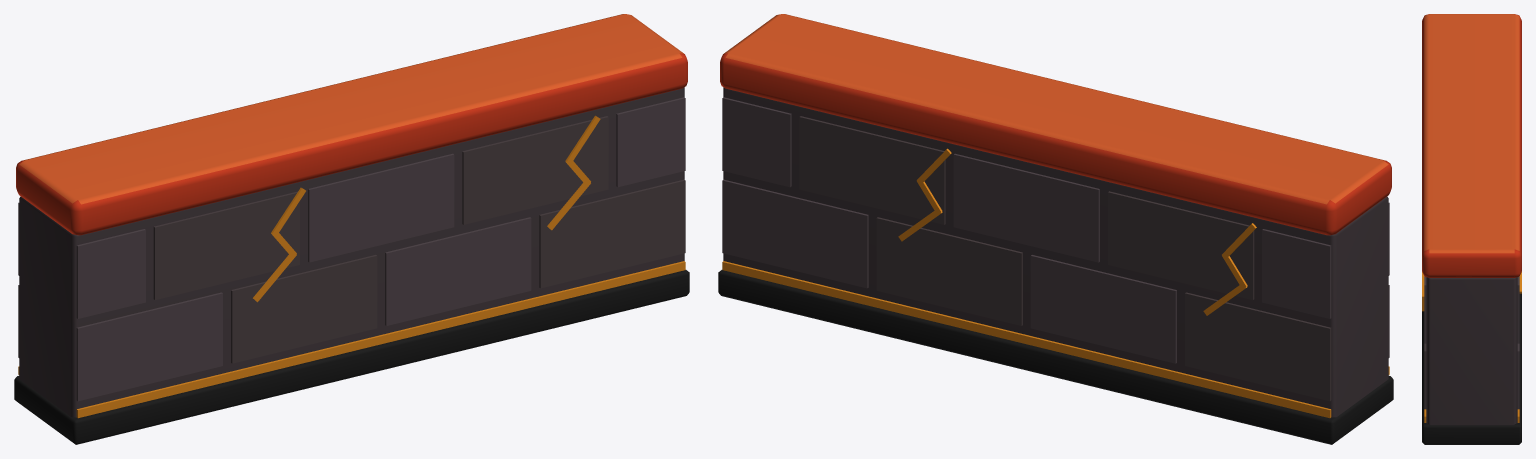
The model's file is candy-border.glb.
The picture shows the model from 3 angles, left to right: view 1: azimuth 30°, elevation 25°; view 2: azimuth 150°, elevation 25°; view 3: azimuth 270°, elevation 25°; orthographic projection. The views are drawn at different scales.
Parts seen in each view (by area): view 1: candy-border; view 2: candy-border; view 3: candy-border.
Part boxes in pixels (<box>): candy-border: <box>14,14,689,444</box>; candy-border: <box>718,14,1393,444</box>; candy-border: <box>1422,14,1521,444</box>.
Bounding box in the file's own units: 4 × 1.5 × 0.7.
